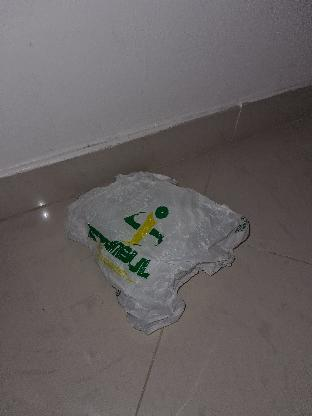Plastic Bag: (65, 172, 257, 330)
